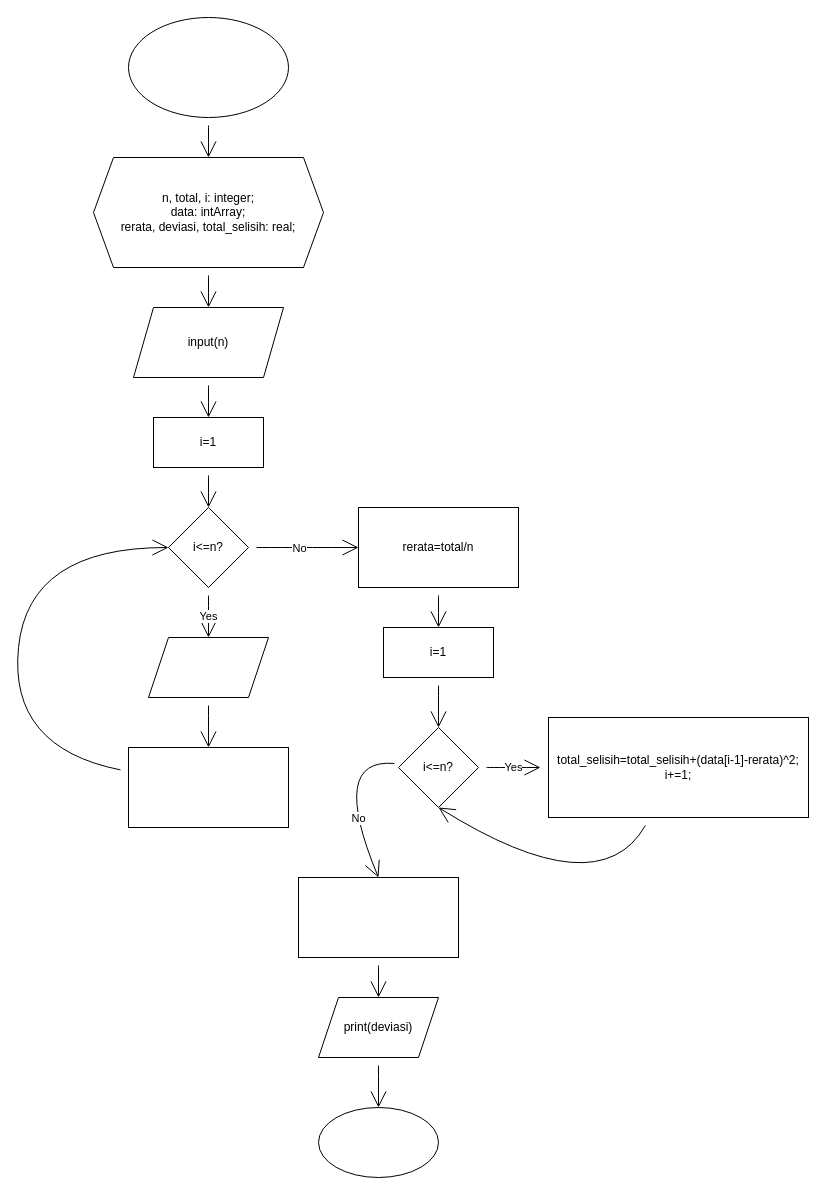
The diagram is 826 pixels wide and 1195 high, and some of its shapes have lost their labels. Each missing label, with the centre of its shape:
deviasi=sqrt(total_selisih/n): point 378,917
End: point 378,1142
input(data[i-1]): point 208,667
Start: point 208,67
total=total + data[i-1]; i+=1;: point 208,787
